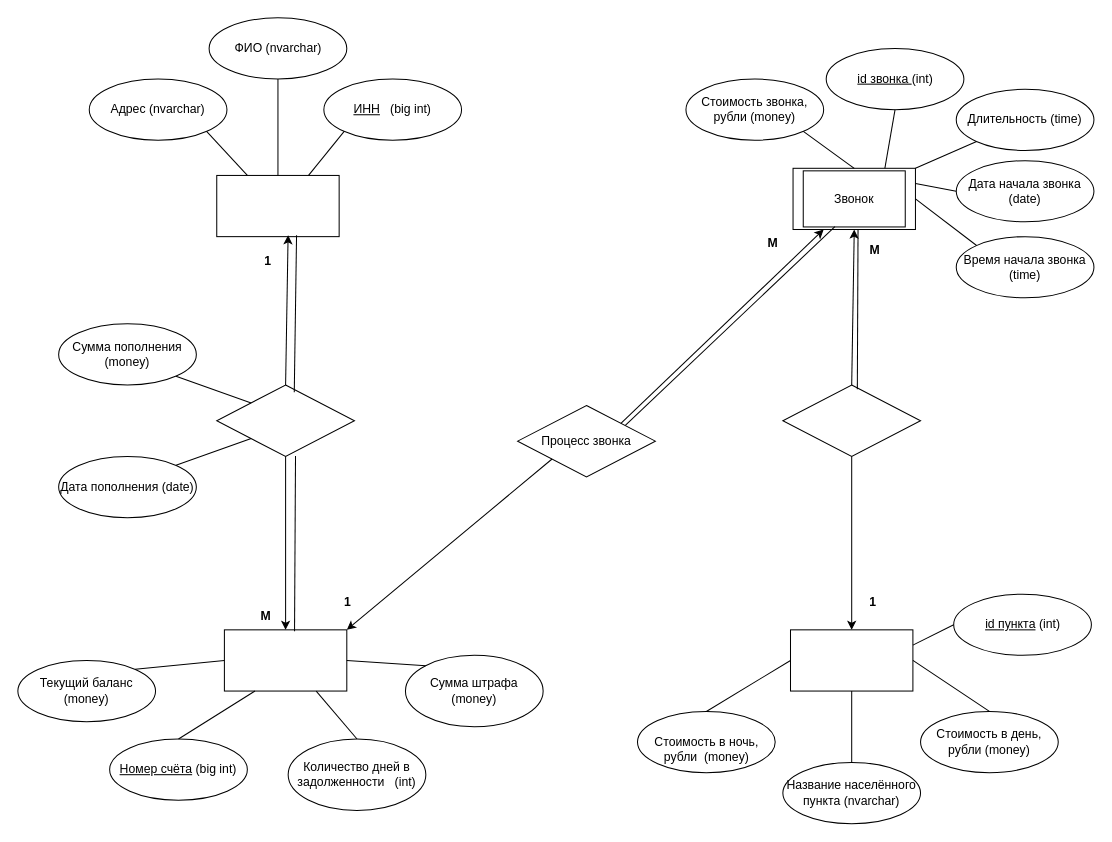
The diagram is 1112 pixels wide and 842 high, and some of its shapes have lost their labels. The box of each missing label's shape, as (x1, y1, x2, y2) in pixels:
Абонент: (216, 174, 339, 237)
Оценка: (782, 384, 921, 456)
Пополняет: (216, 384, 354, 456)
Прайс: (789, 629, 913, 691)
Счет: (223, 629, 347, 691)
